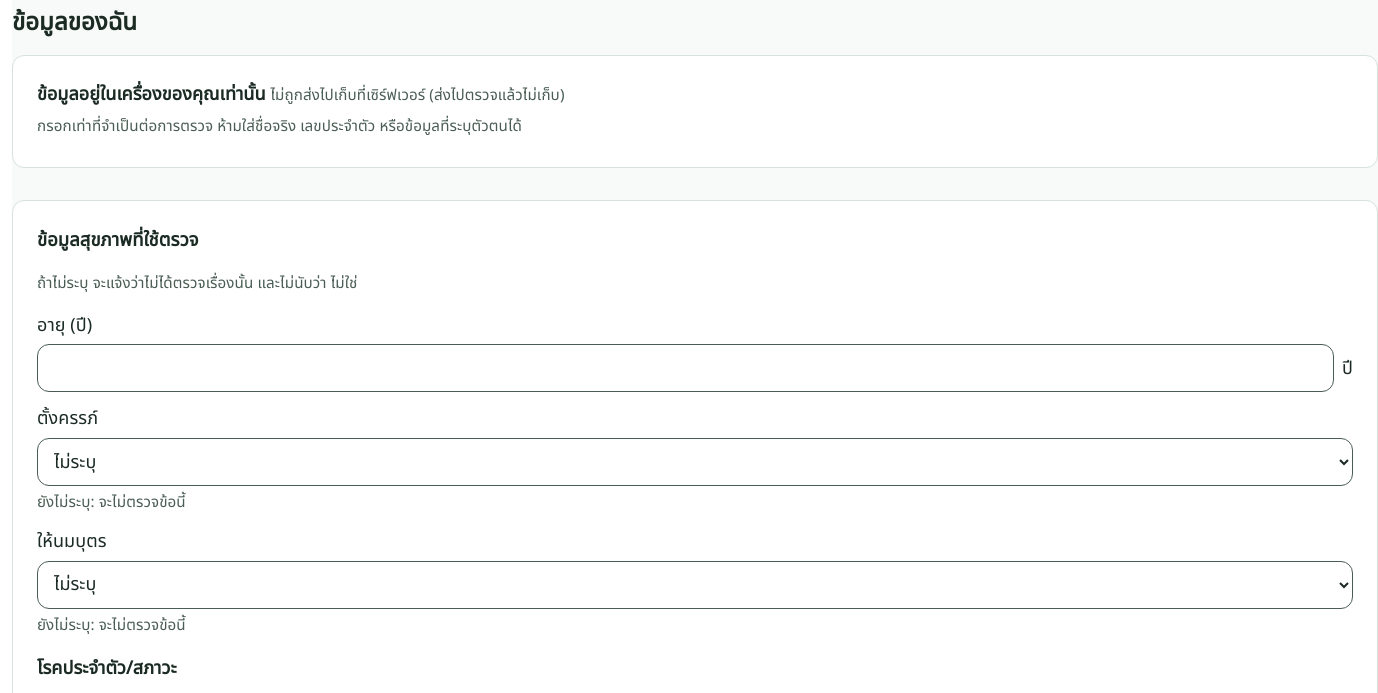
เลือกโรค/สภาวะแบบชิป › ตั้งครรภ์/ให้นมบุตรยังเป็น select 3 ค่า และบอกชัดเมื่อยังไม่ระบุ
This screenshot has width=1378, height=693.
Expected: the text "ยังไม่ระบุ: จะไม่ตรวจข้อนี้" is shown 2 times, [37, 491, 186, 514]; [37, 614, 186, 637]
Select "ไม่ใช่" in the dropdown labelled "ตั้งครรภ์" at coordinates (695, 462), box [37, 438, 1353, 486]
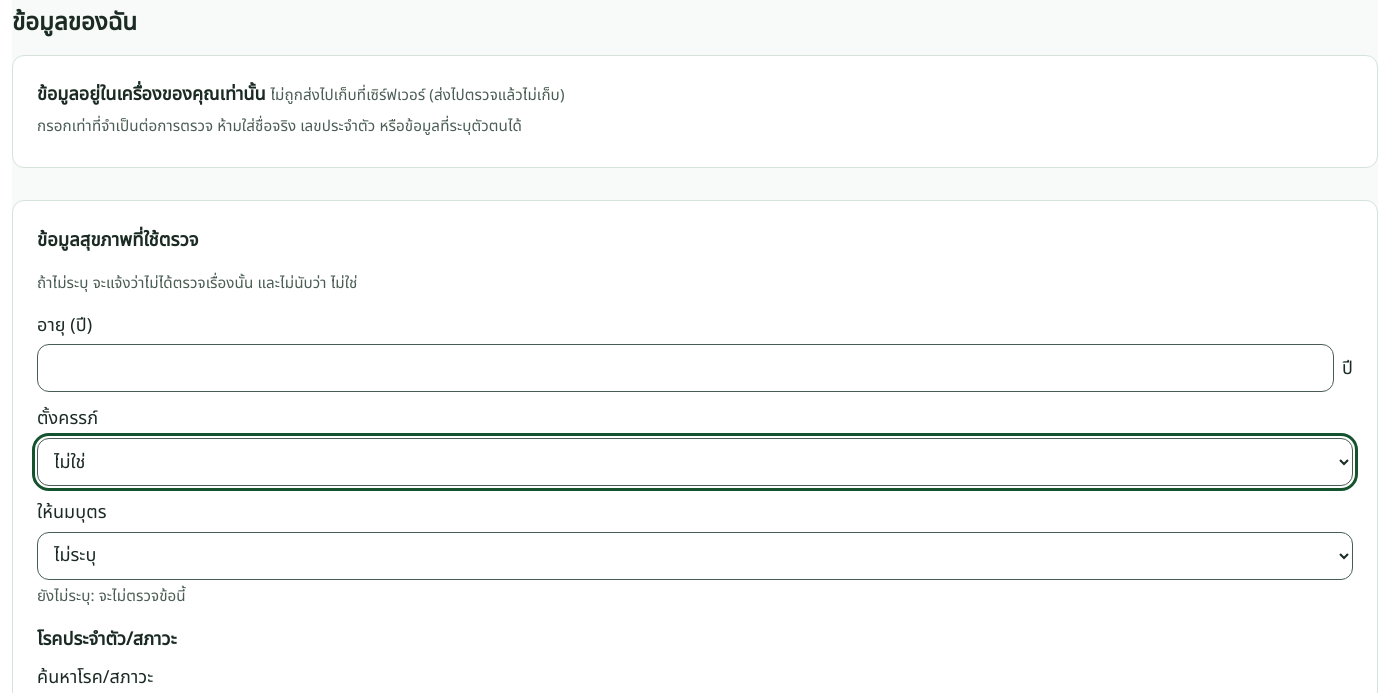
Now the text "ยังไม่ระบุ: จะไม่ตรวจข้อนี้" is shown once, box [37, 585, 186, 608]
